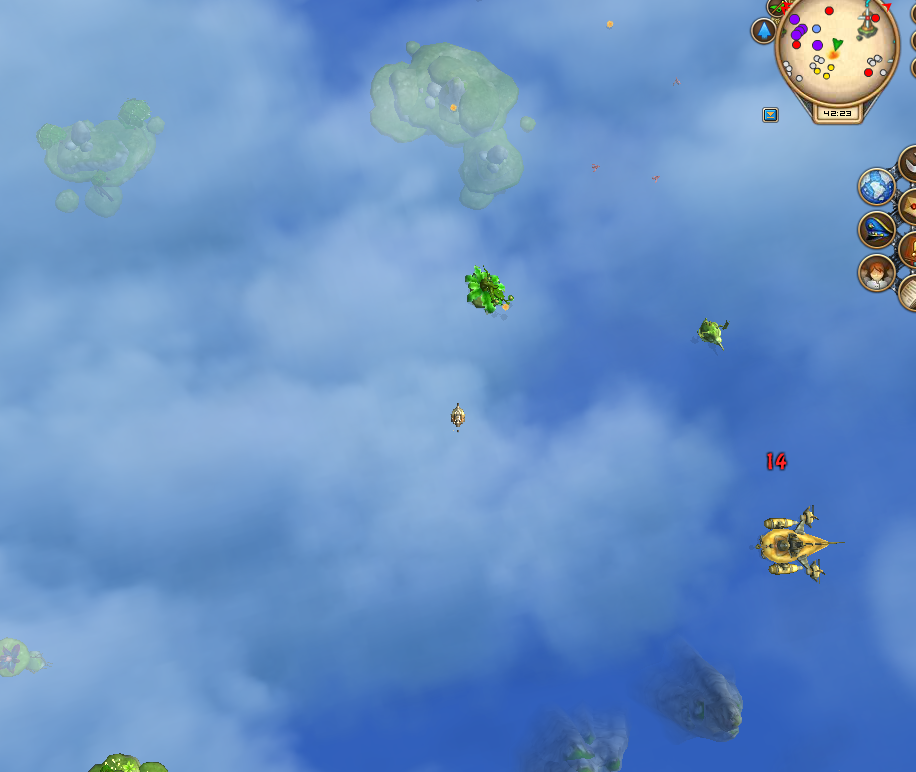dandelion-full: (459, 262, 519, 320)
fluff: (446, 98, 459, 114), (605, 18, 614, 32)
